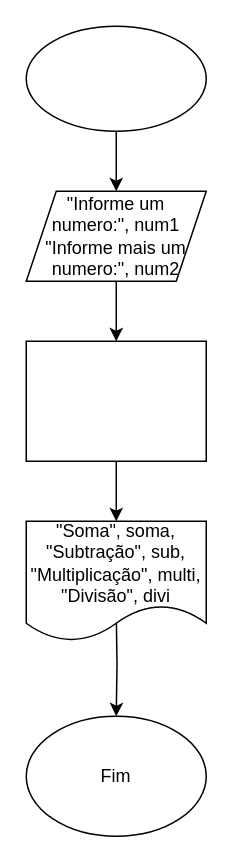
This 233x863 diagram has some shape labels left out. The centre of each missing label's shape, as x and y in pixels:
"Inicio" goes at pixel 115 78.
"soma:= num1= num2 sub:= num1 - num2 multi:= num1 * num2 divi:= num1 / num2" goes at pixel 115 400.
